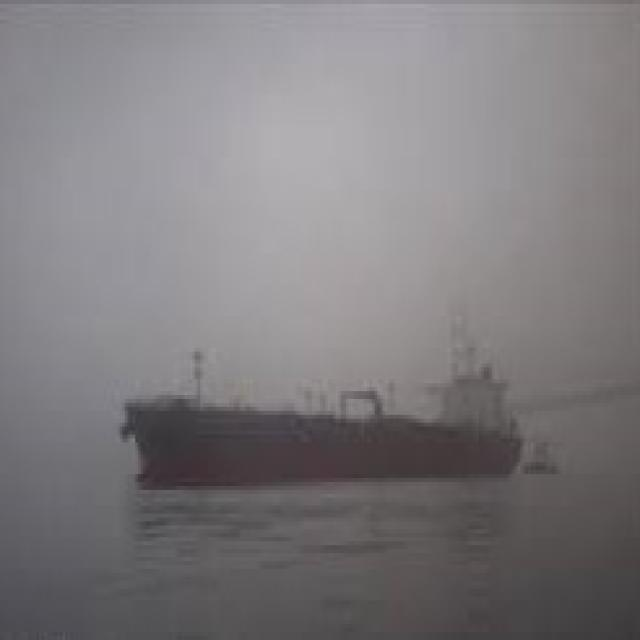cargoship: (122, 334, 521, 481)
